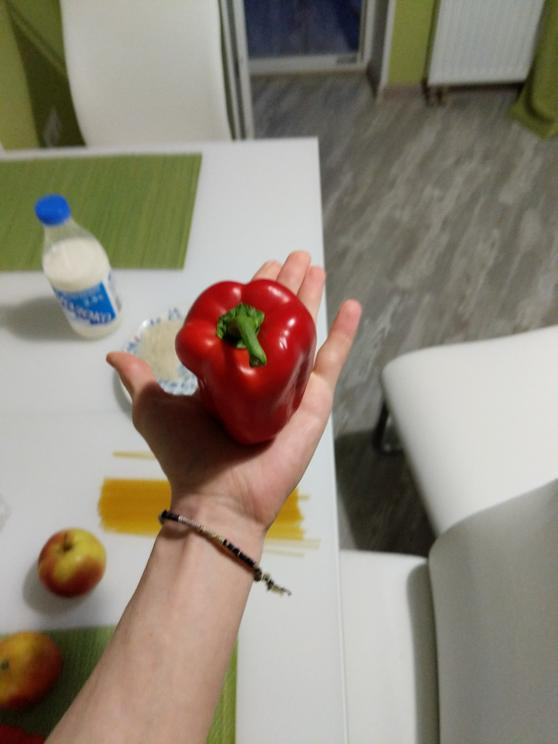milk: (22, 190, 128, 347)
pepper: (172, 277, 327, 449)
spaghetti: (96, 459, 318, 554)
